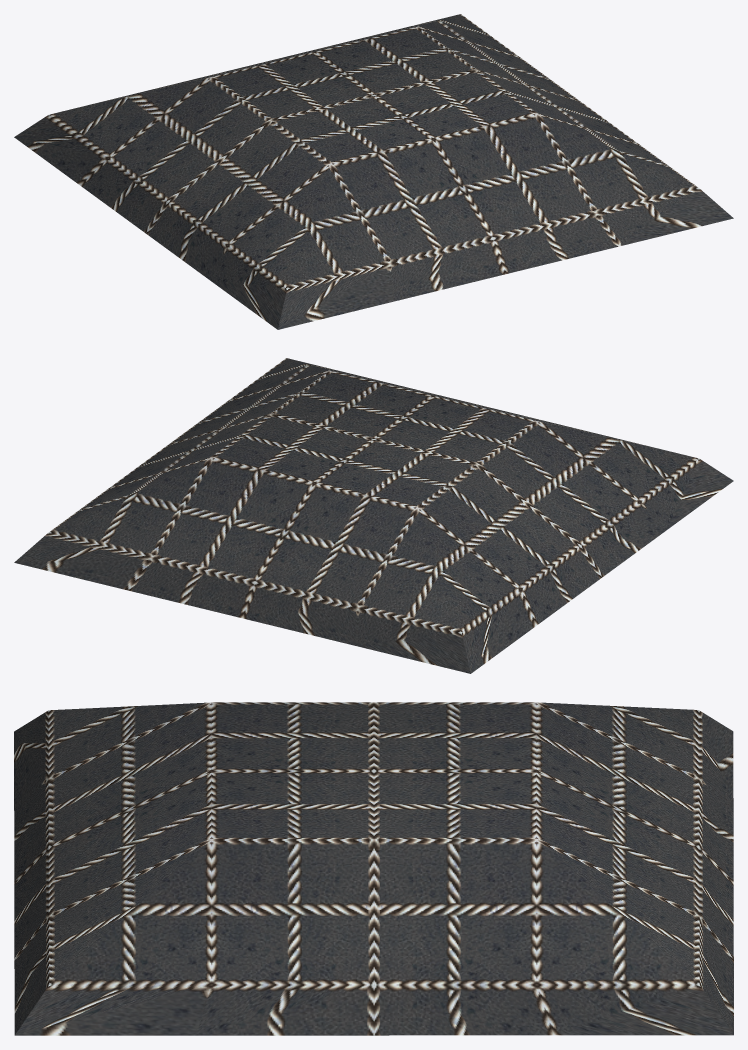
The picture shows the model from 3 angles, top to bottom: view 1: azimuth 30°, elevation 25°; view 2: azimuth 150°, elevation 25°; view 3: azimuth 270°, elevation 25°; orthographic projection. The views are drawn at different scales.
Visible parts, largest first — view 1: wj34; view 2: wj34; view 3: wj34.
Boxes of the visible parts, x1,y1,x2,y2 form: wj34: (14,14,733,329); wj34: (14,358,733,673); wj34: (14,702,733,1035).
Bounding box in the file's own units: 616 × 106 × 616.
Materials: 2 (2 with a texture image).
